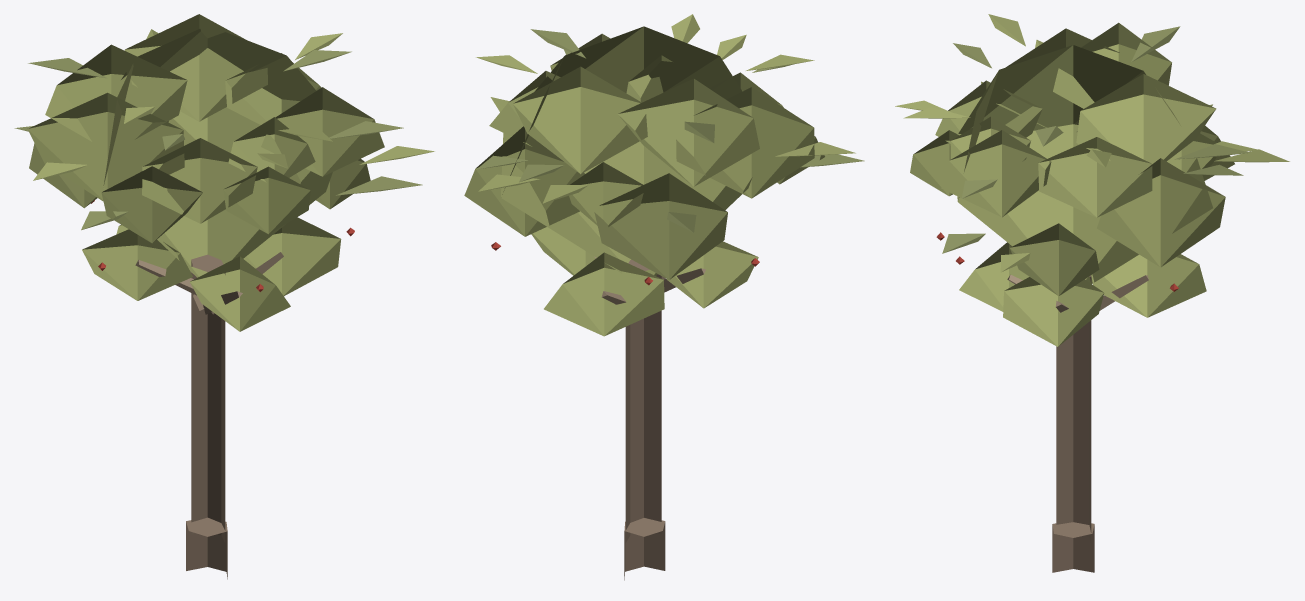
File: shu.longnao@fruiting__autumn.glb
3 views of the same model, side by side, from view 1: azimuth 30°, elevation 25°; view 2: azimuth 150°, elevation 25°; view 3: azimuth 270°, elevation 25° (orthographic). The views are drawn at different scales.
Parts seen in each view (by area): view 1: shu.longnao@fruiting__autumn; view 2: shu.longnao@fruiting__autumn; view 3: shu.longnao@fruiting__autumn.
Part boxes in pixels (x1,y1,x2,y2): shu.longnao@fruiting__autumn: (14, 14, 434, 579); shu.longnao@fruiting__autumn: (464, 14, 864, 580); shu.longnao@fruiting__autumn: (895, 14, 1289, 572).
Size of the model in its own units: 21.86 by 29.23 by 19.99.
